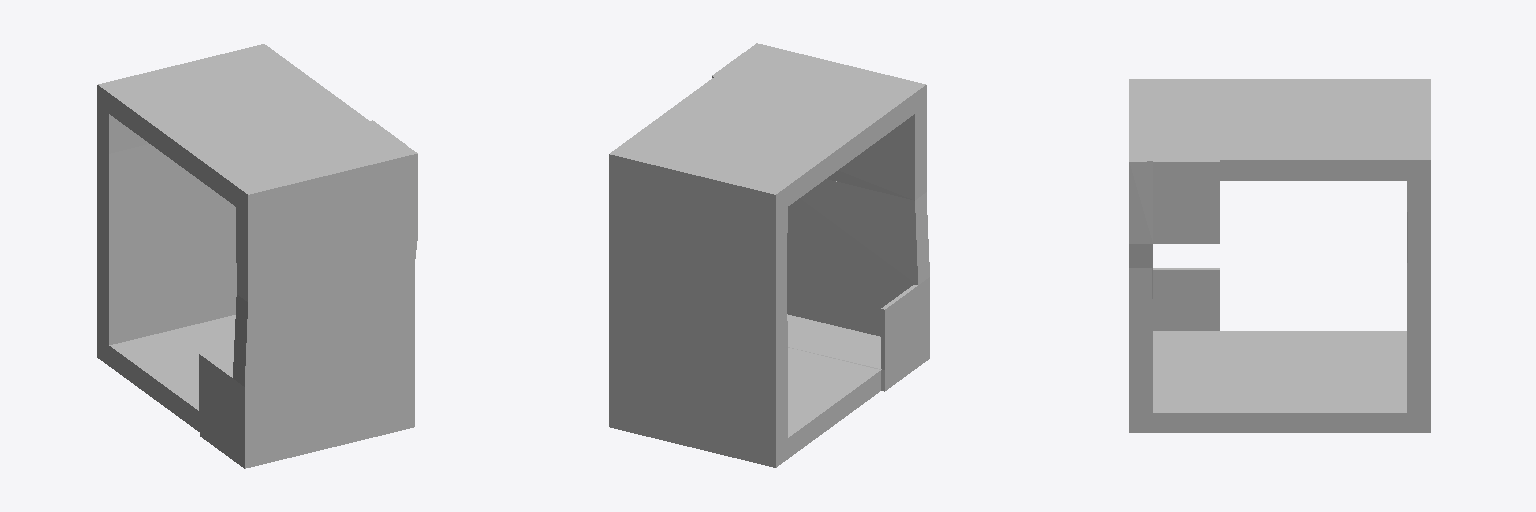
Rendered from dt_box_vhacd.obj.
The picture shows the model from 3 angles: view 1: azimuth 30°, elevation 25°; view 2: azimuth 150°, elevation 25°; view 3: azimuth 270°, elevation 25°; orthographic projection.
Parts seen in each view (by area): view 1: convex_4, convex_0, convex_5, convex_3, convex_1, convex_9, convex_2, convex_7, convex_6; view 2: convex_0, convex_4, convex_3, convex_2, convex_5, convex_9, convex_1, convex_6, convex_7; view 3: convex_1, convex_3, convex_9, convex_6, convex_0, convex_5, convex_7, convex_8, convex_4, convex_2.
Boxes of the visible parts, <box> form: convex_4: <box>233,262,414,468</box>; convex_0: <box>97,144,236,365</box>; convex_5: <box>236,145,417,301</box>; convex_3: <box>109,53,368,181</box>; convex_1: <box>109,315,235,431</box>; convex_9: <box>203,120,405,206</box>; convex_2: <box>97,44,275,153</box>; convex_7: <box>199,353,232,438</box>; convex_6: <box>200,415,232,459</box>; convex_0: <box>609,215,787,467</box>; convex_4: <box>787,179,929,366</box>; convex_3: <box>621,77,880,205</box>; convex_2: <box>609,146,787,255</box>; convex_5: <box>746,43,926,200</box>; convex_9: <box>712,52,914,137</box>; convex_1: <box>788,348,880,458</box>; convex_6: <box>787,314,917,391</box>; convex_7: <box>881,285,917,369</box>; convex_1: <box>1220,331,1406,432</box>; convex_3: <box>1220,79,1406,180</box>; convex_9: <box>1153,79,1219,182</box>; convex_6: <box>1153,331,1219,432</box>; convex_0: <box>1407,212,1430,432</box>; convex_5: <box>1129,79,1152,267</box>; convex_7: <box>1153,268,1219,330</box>; convex_8: <box>1153,183,1219,243</box>; convex_4: <box>1129,263,1152,432</box>; convex_2: <box>1407,79,1430,220</box>.
Size of the model in its own units: 0.1565 by 0.2355 by 0.2355.